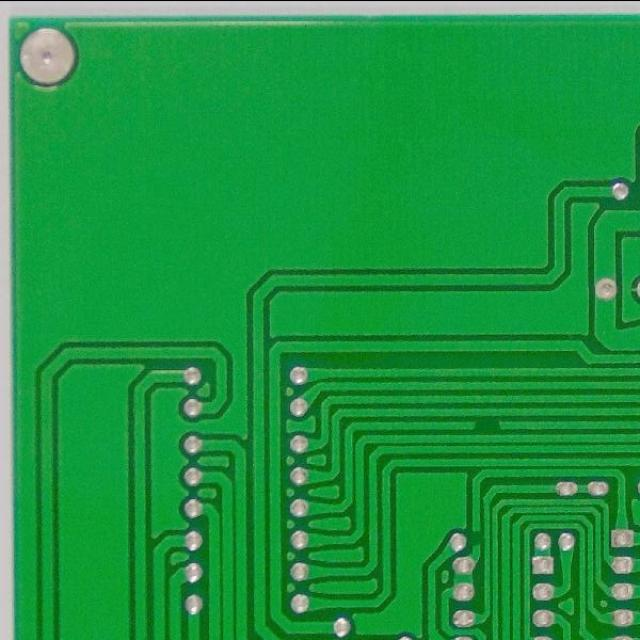open_circuit: (470, 417, 507, 433), (467, 525, 484, 549)
